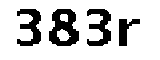3: (11, 6, 44, 49), (82, 5, 111, 50)
8: (47, 4, 80, 52)
r: (116, 16, 143, 51)
